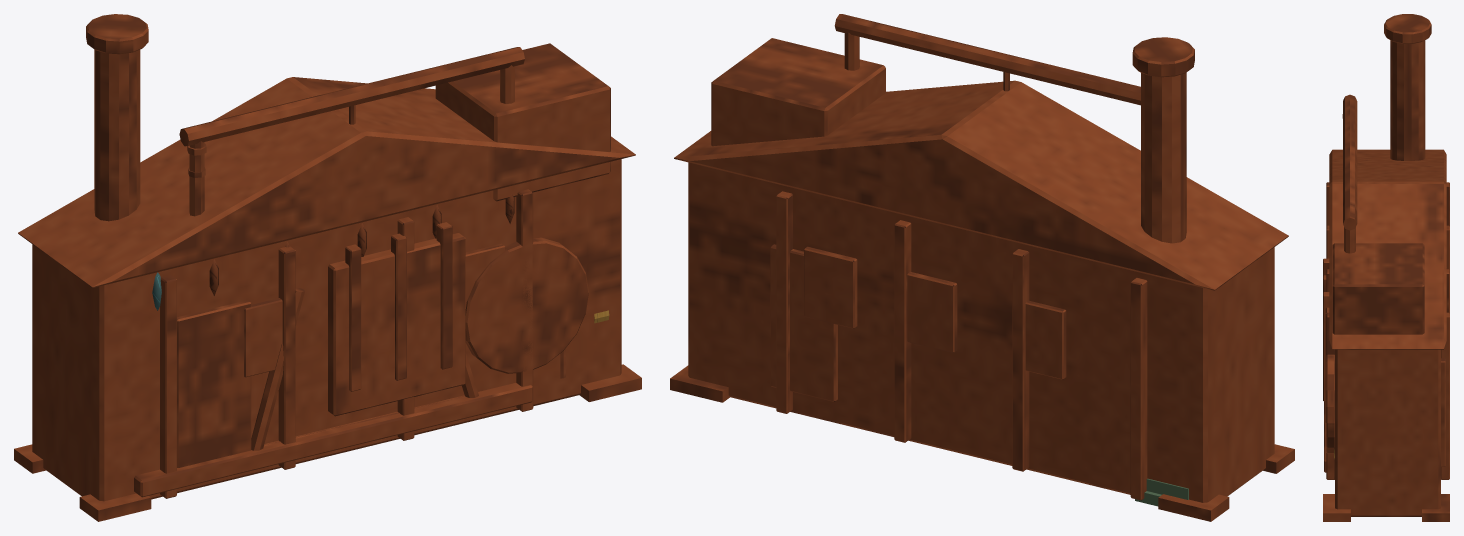
Rendered from stamp-mill.e9.glb.
3 renders of one model, left to right at view 1: azimuth 30°, elevation 25°; view 2: azimuth 150°, elevation 25°; view 3: azimuth 270°, elevation 25°, orthographic. The views are drawn at different scales.
Visible parts, largest first — view 1: StampMillE9CanalWorks; view 2: StampMillE9CanalWorks; view 3: StampMillE9CanalWorks.
Part boxes in pixels (box(x1,y1,x2,y2)): StampMillE9CanalWorks: box(14, 14, 641, 521); StampMillE9CanalWorks: box(670, 14, 1294, 521); StampMillE9CanalWorks: box(1323, 14, 1449, 521).
Bounding box in the file's own units: 5.95 × 4.56 × 1.6.
1 material, 1 textured.
